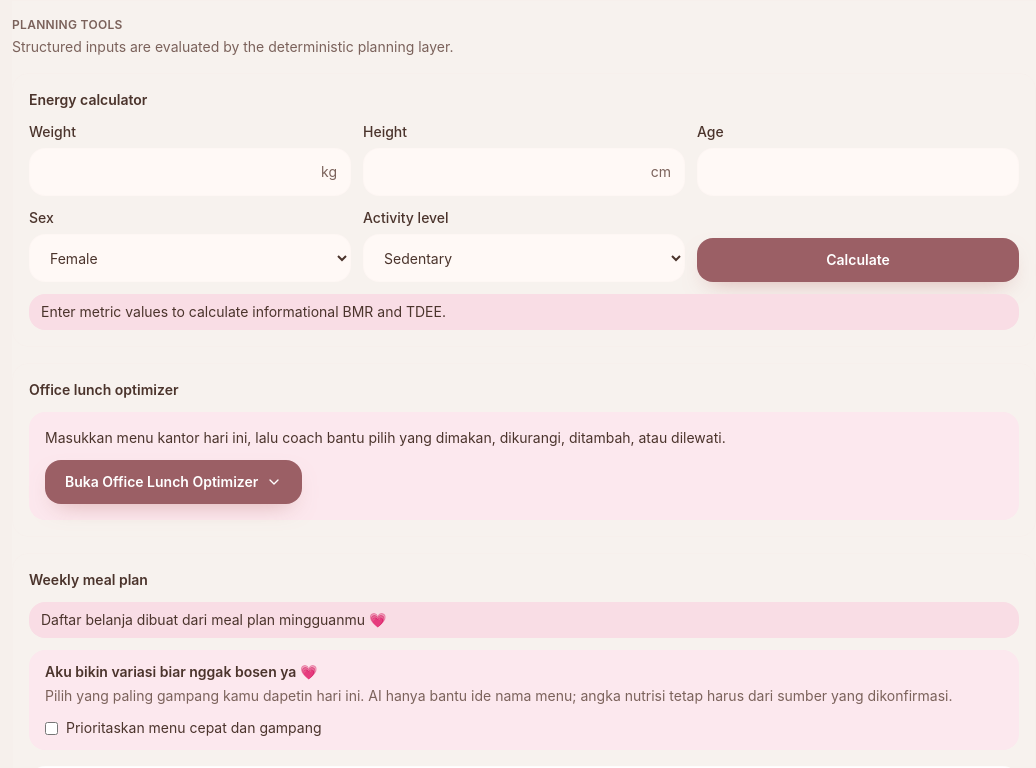
PlanningToolsPanel › renders field-specific invalid energy input without medical content
This screenshot has width=1036, height=768.
Click the button "Calculate".
click(858, 260)  # box [697,238,1019,282]
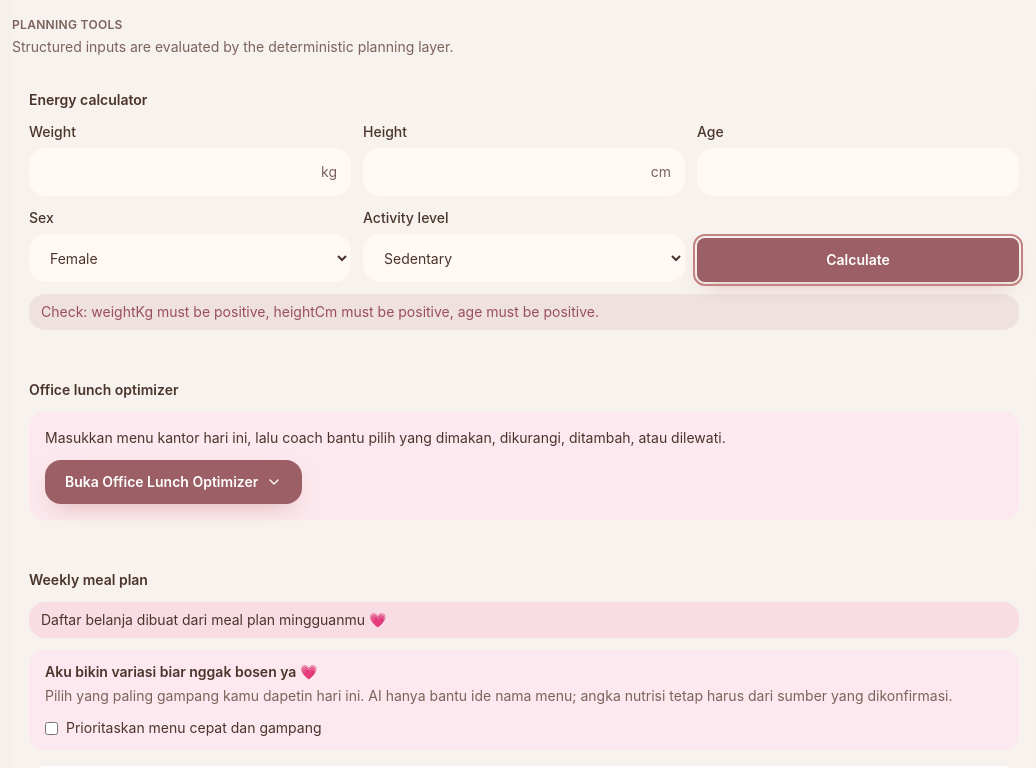
Now the message that starts with "Check:" shows "weightKg must be positive", box [91,303,595,320]
